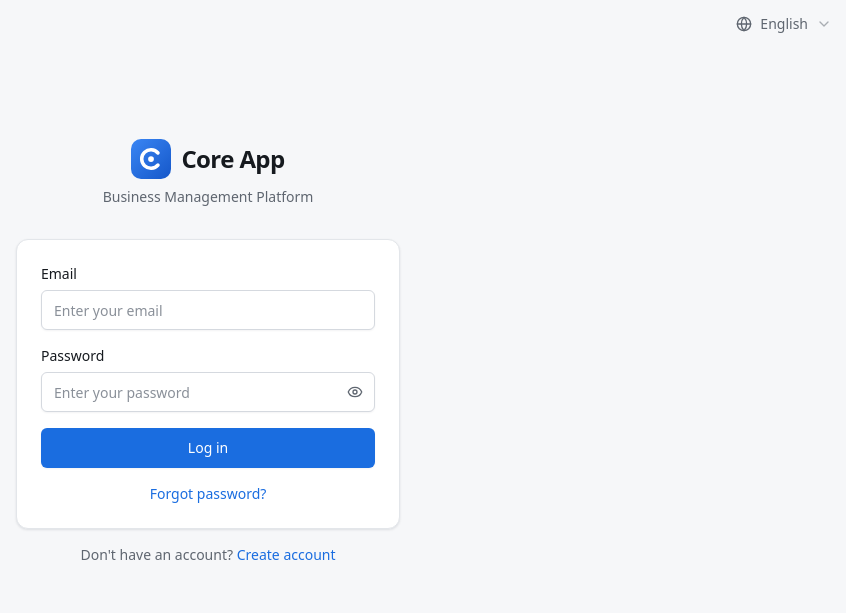
Test: login › validates the login form before calling Supabase
Type "not-an-email" into the field labelled "Email" at {"x": 208, "y": 310}, box [41,290,375,330]
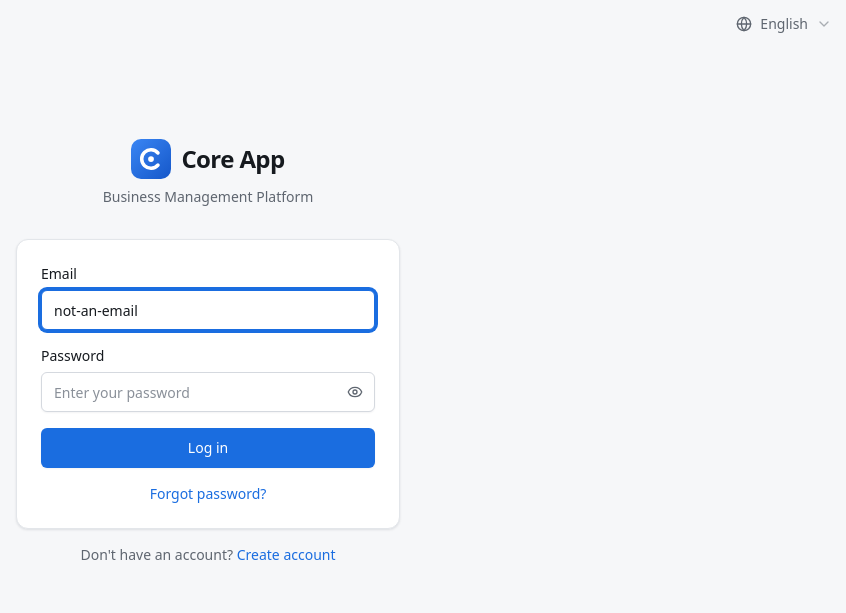
Click the button "Log in" at {"x": 208, "y": 448}, box [41,428,375,468]
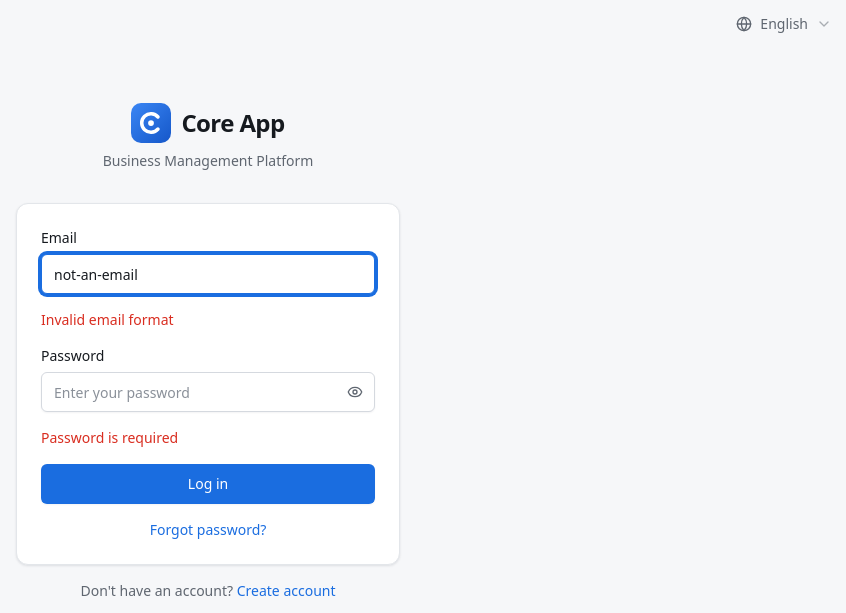
Expected: the text "Invalid email format" is shown, [41,310,174,329]
Expected: the text "Password is required" is shown, [41,428,178,447]
